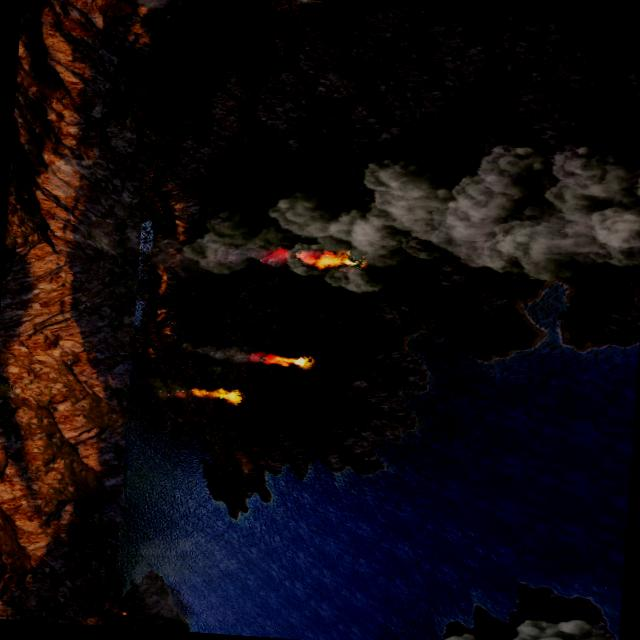fire: (260, 236, 370, 276), (189, 382, 243, 402), (260, 350, 314, 370)
smoke: (157, 118, 640, 314), (182, 341, 262, 362)
